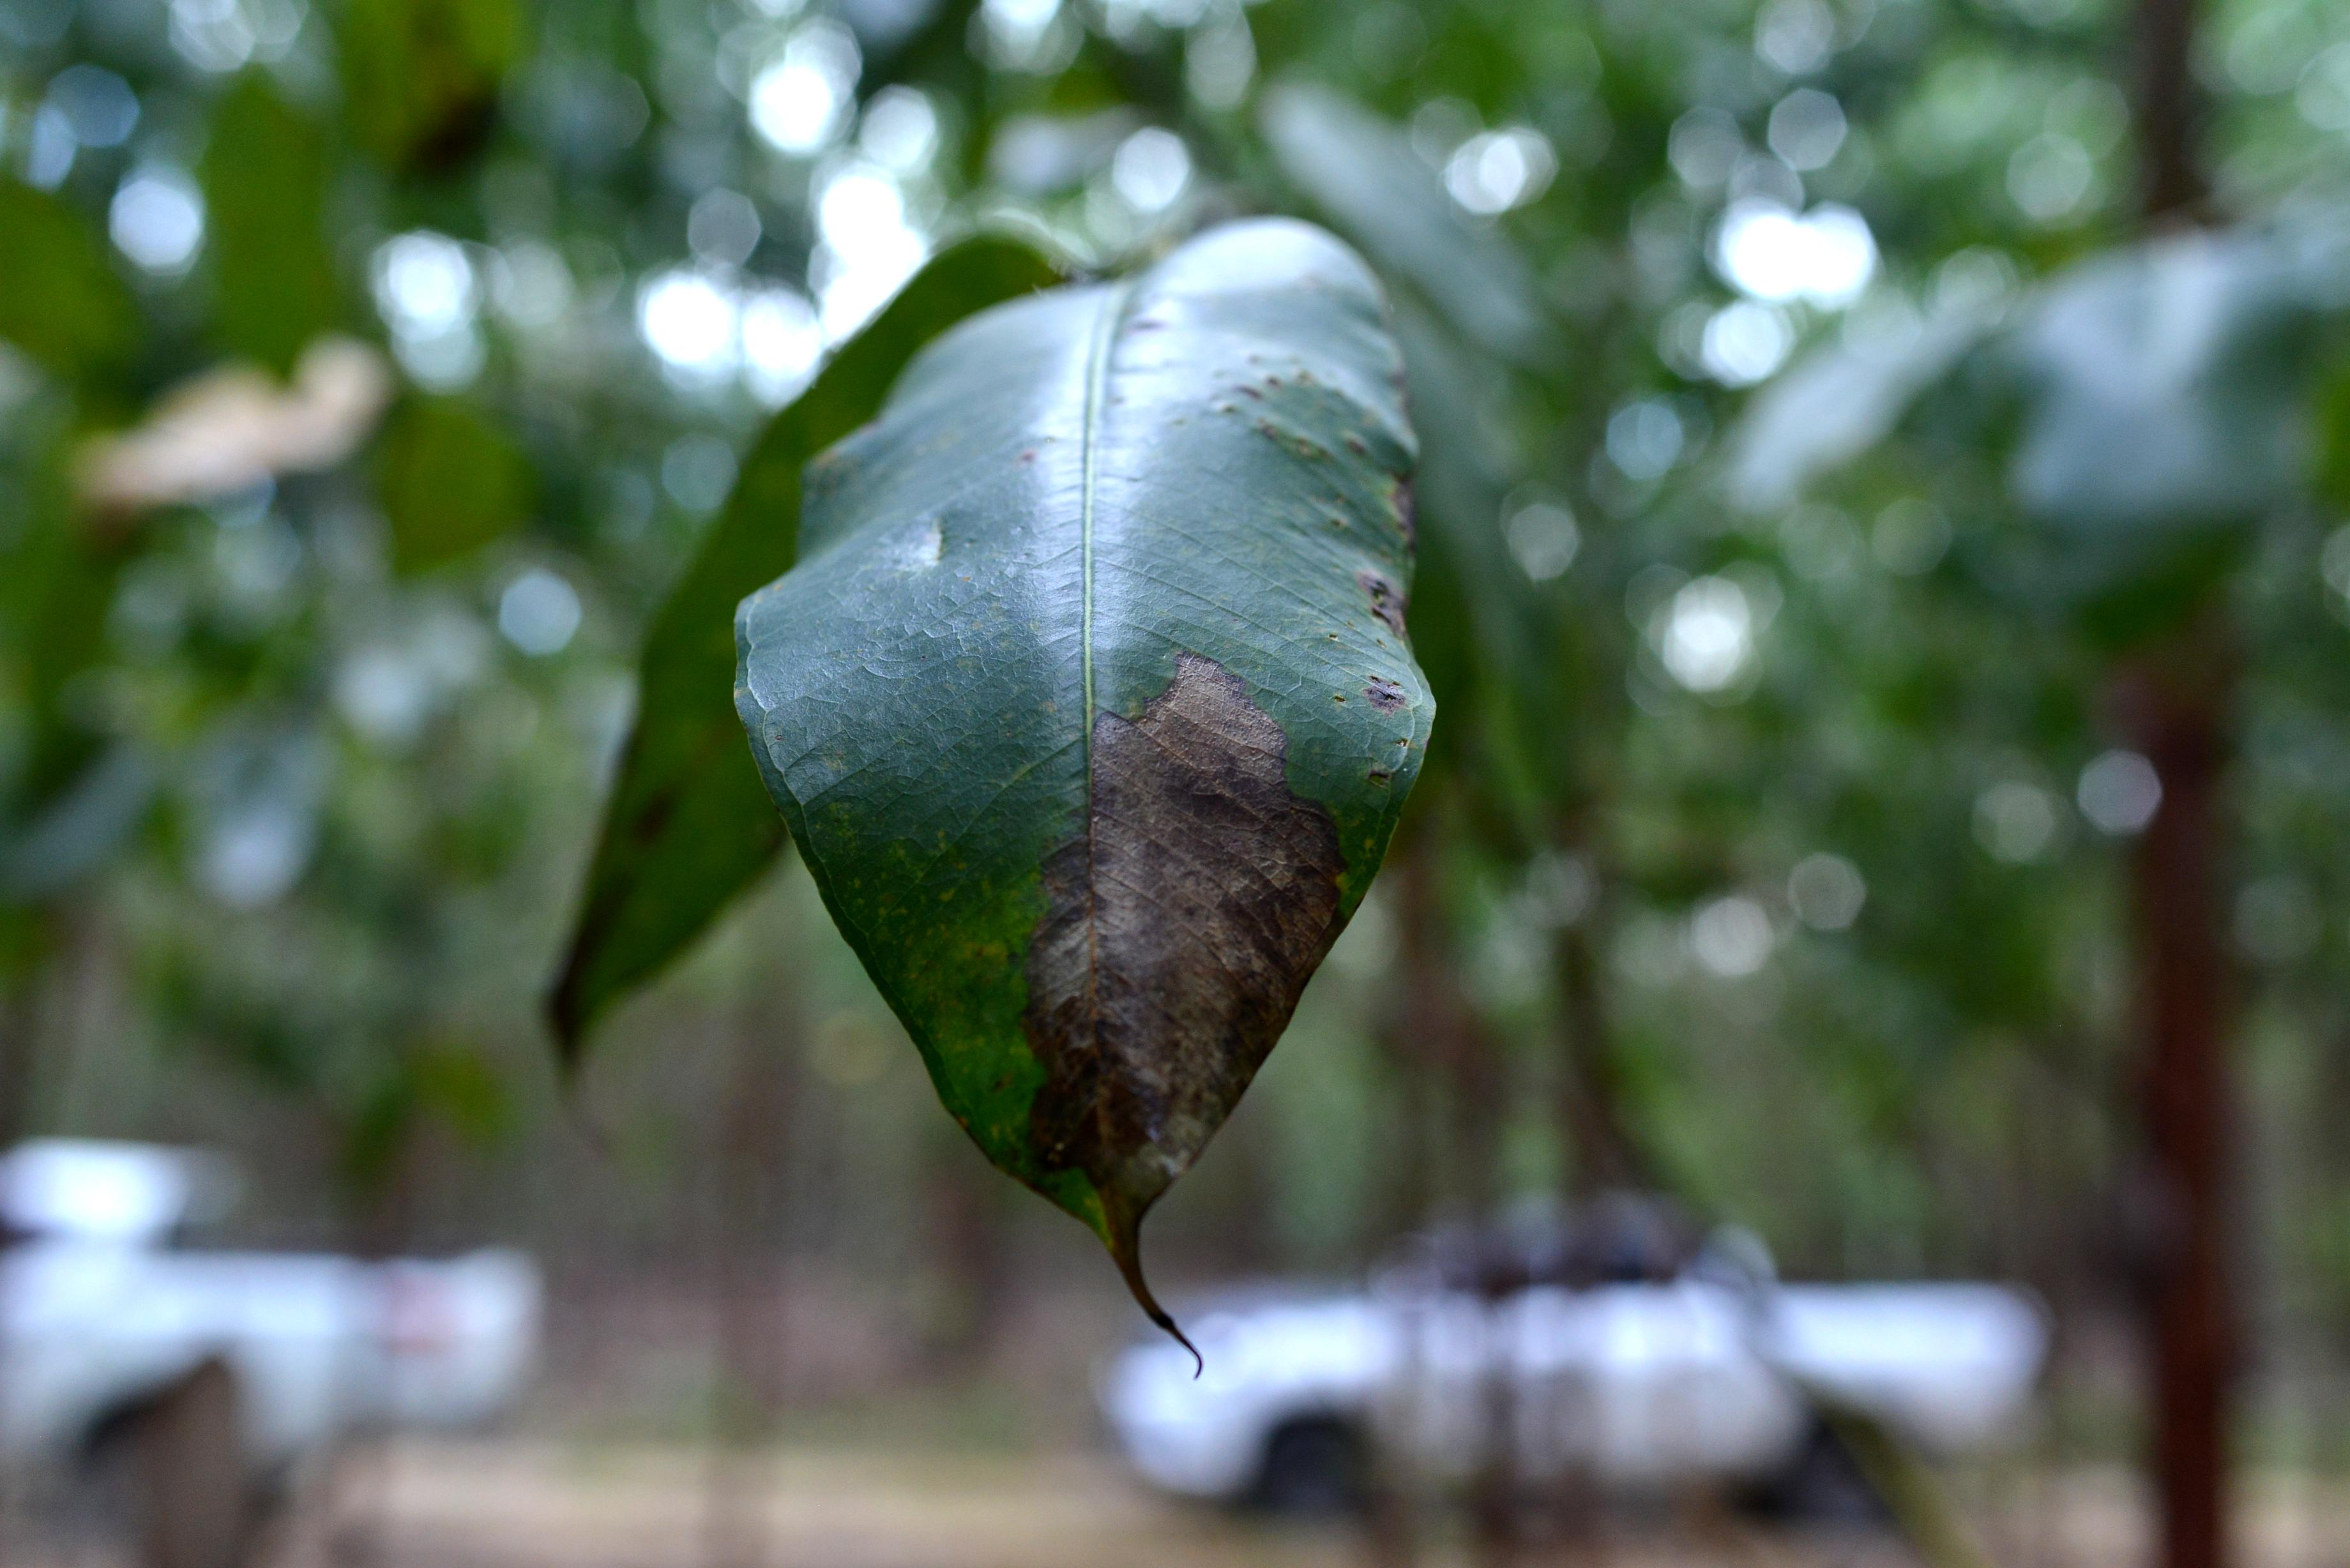Cylindrocladium: (1003, 639, 1347, 1230)
